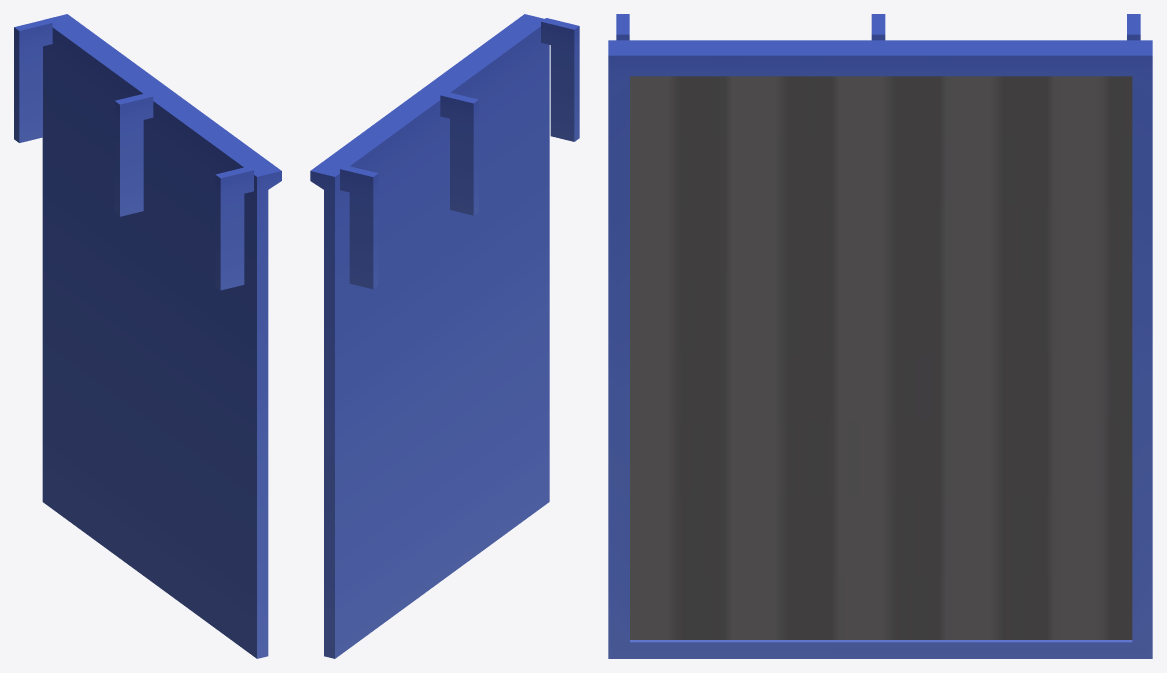
Rendered from SignProp_2_B_4.fbx.
3 views of the same model, side by side, from view 1: azimuth 30°, elevation 25°; view 2: azimuth 150°, elevation 25°; view 3: azimuth 270°, elevation 25° (orthographic). The views are drawn at different scales.
Parts seen in each view (by area): view 1: SignProp_2_B_4; view 2: SignProp_2_B_4; view 3: SignProp_2_B_4.
Part boxes in pixels (left/top/right/bottom): SignProp_2_B_4: left=14, top=14, right=281, bottom=658; SignProp_2_B_4: left=310, top=14, right=579, bottom=658; SignProp_2_B_4: left=608, top=14, right=1152, bottom=658.
Bounding box in the file's own units: 14.49 × 116 × 92.55.
